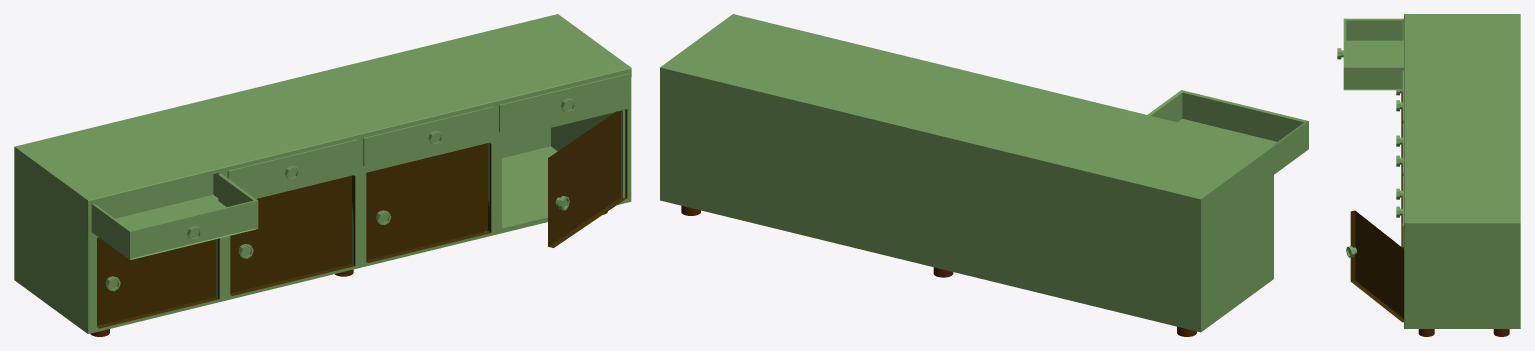
Rendered from Armario-Cozinha.fbx.
The picture shows the model from 3 angles, left to right: view 1: azimuth 30°, elevation 25°; view 2: azimuth 150°, elevation 25°; view 3: azimuth 270°, elevation 25°; orthographic projection. The views are drawn at different scales.
Visible parts, largest first — view 1: Cube.030; view 2: Cube.030; view 3: Cube.030.
Boxes of the visible parts, x1,y1,x2,y2 form: Cube.030: [14, 14, 631, 336]; Cube.030: [660, 14, 1308, 336]; Cube.030: [1337, 14, 1520, 336].
Size of the model in its own units: 1073 by 281 by 396.
